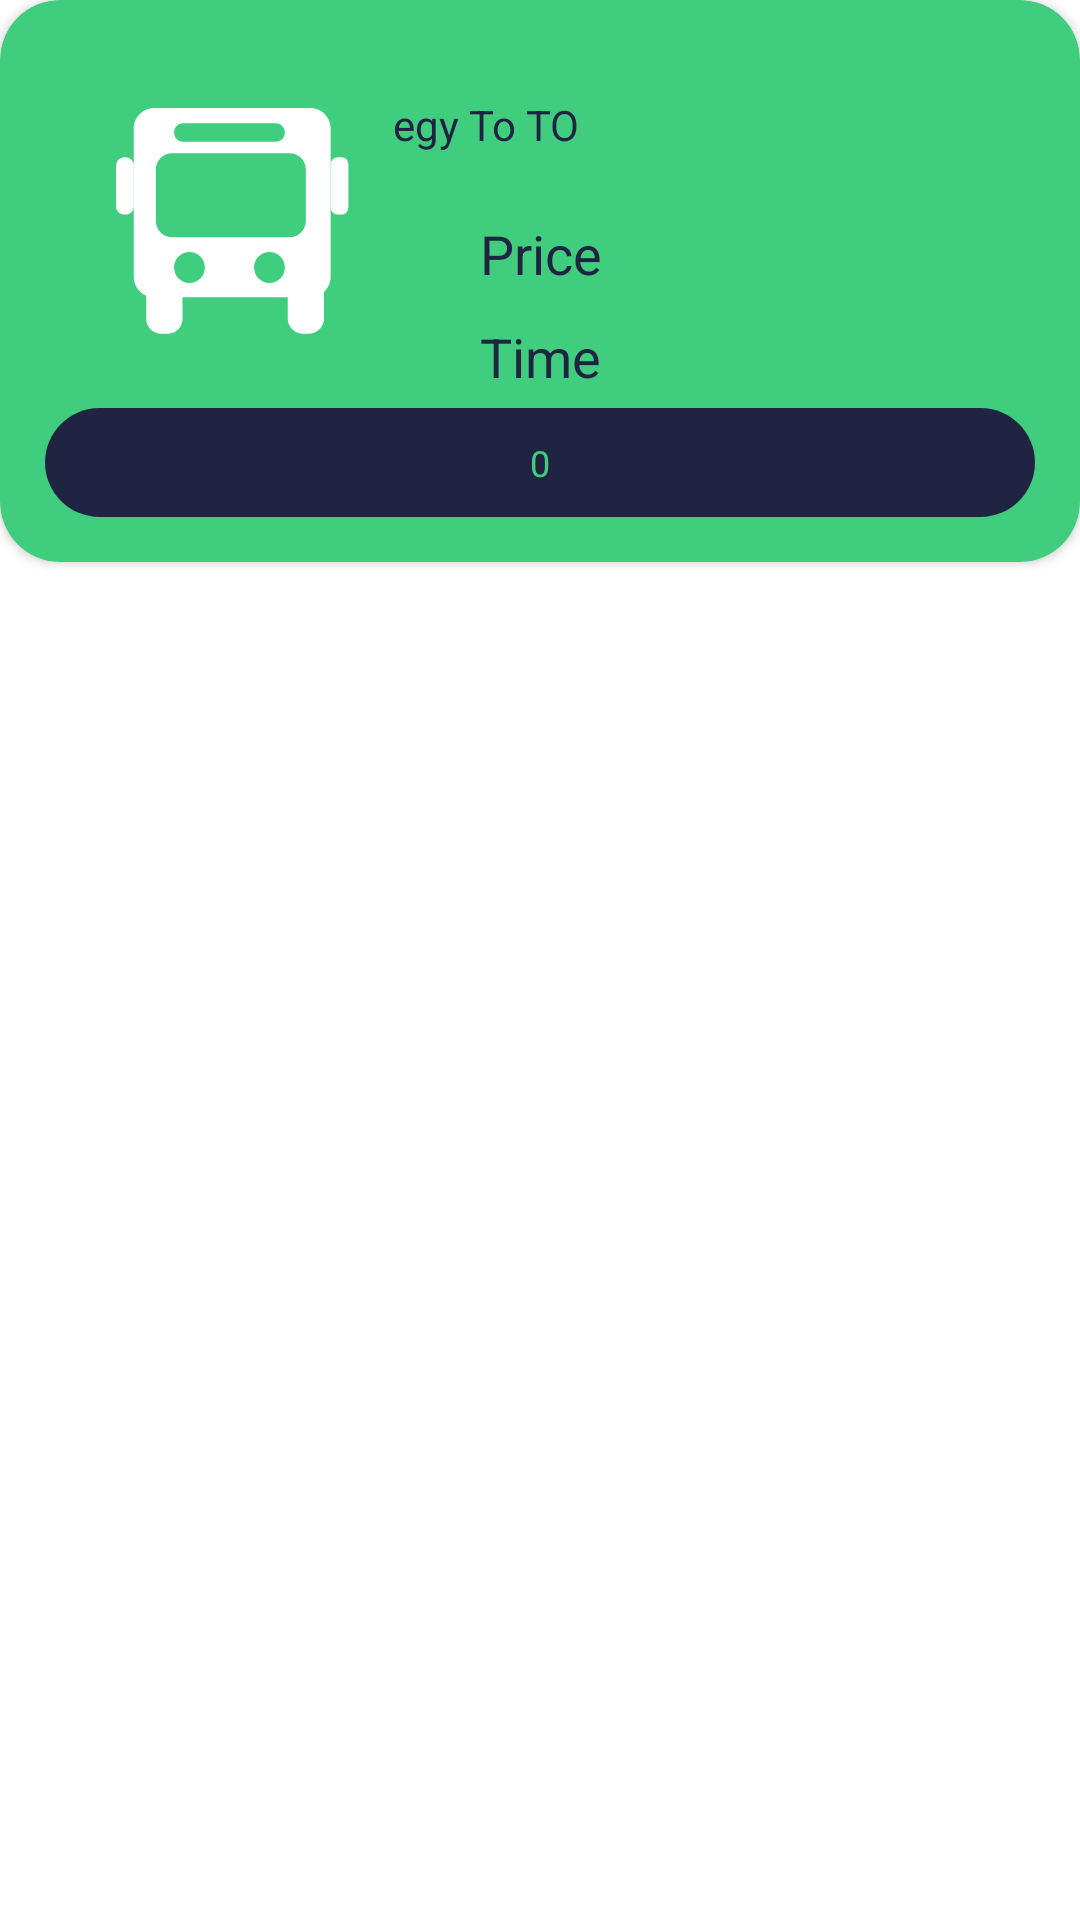

Screen size 1080px x 1920px. Icon name, then its center in pixels as point (x, y):
bus: point (232, 221)
